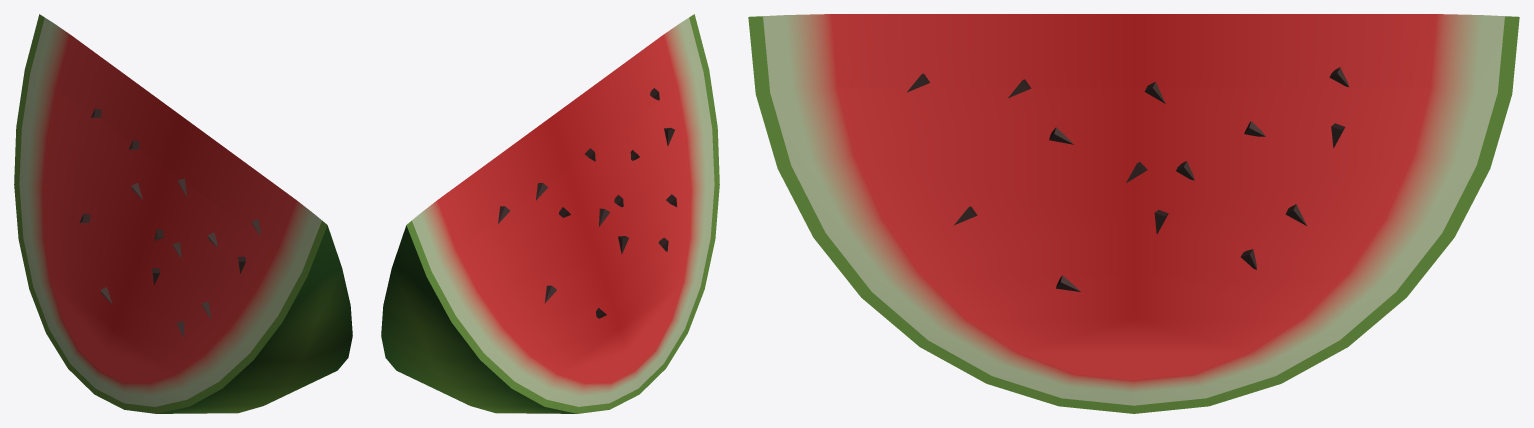
The picture shows the model from 3 angles, left to right: view 1: azimuth 30°, elevation 25°; view 2: azimuth 150°, elevation 25°; view 3: azimuth 270°, elevation 25°; orthographic projection. The views are drawn at different scales.
Visible parts, largest first — view 1: WatermelonSlice; view 2: WatermelonSlice; view 3: WatermelonSlice.
Boxes of the visible parts, box(x1,y1,x2,y2) form: WatermelonSlice: box(14, 14, 352, 413); WatermelonSlice: box(381, 14, 719, 413); WatermelonSlice: box(748, 14, 1519, 413).
Bounding box in the file's own units: 0.1785 × 0.2644 × 0.5.
